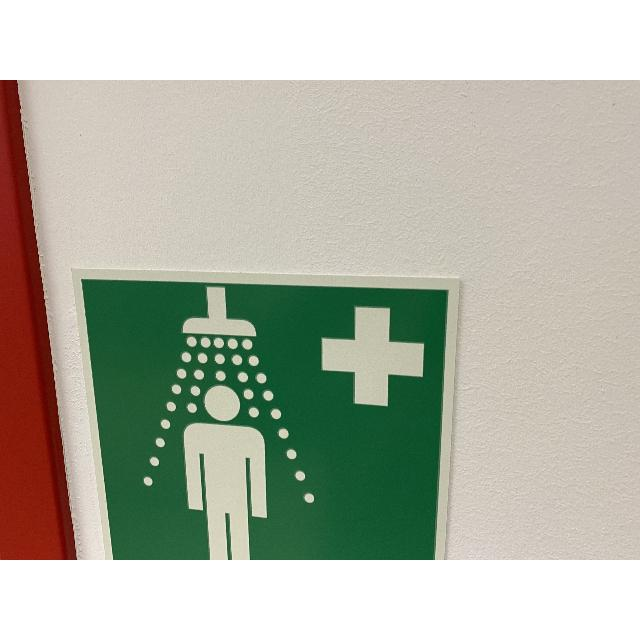shower: (70, 268, 462, 560)
